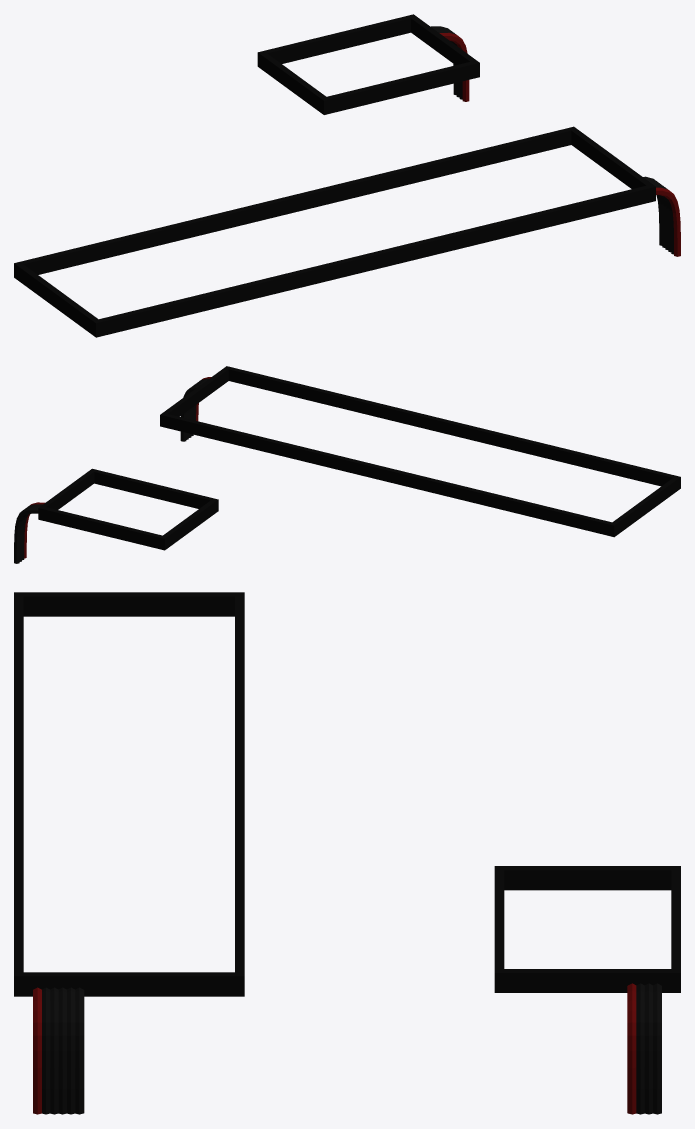
The model's file is wiring.obj.
3 views of the same model, one above another, from view 1: azimuth 30°, elevation 25°; view 2: azimuth 150°, elevation 25°; view 3: azimuth 270°, elevation 25° (orthographic). The views are drawn at different scales.
Visible parts, largest first — view 1: Edge.001, NurbsCurve.003_CUNurbsCurve.003, NurbsCurve.004_CUNurbsCurve.004; view 2: Edge.001, NurbsCurve.004_CUNurbsCurve.004, NurbsCurve.003_CUNurbsCurve.003; view 3: Edge.001, NurbsCurve.003_CUNurbsCurve.003, NurbsCurve.004_CUNurbsCurve.004.
Boxes of the visible parts, x1=… form: Edge.001: x1=14, y1=14, x2=655, y2=337; NurbsCurve.003_CUNurbsCurve.003: x1=643, y1=176, x2=680, y2=256; NurbsCurve.004_CUNurbsCurve.004: x1=431, y1=26, x2=469, y2=101; Edge.001: x1=38, y1=366, x2=680, y2=550; NurbsCurve.004_CUNurbsCurve.004: x1=14, y1=502, x2=44, y2=563; NurbsCurve.003_CUNurbsCurve.003: x1=180, y1=377, x2=211, y2=441; Edge.001: x1=14, y1=592, x2=680, y2=996; NurbsCurve.003_CUNurbsCurve.003: x1=33, y1=987, x2=84, y2=1114; NurbsCurve.004_CUNurbsCurve.004: x1=627, y1=983, x2=661, y2=1114.
Size of the model in its own units: 1.73 by 0.2288 by 1.2.
